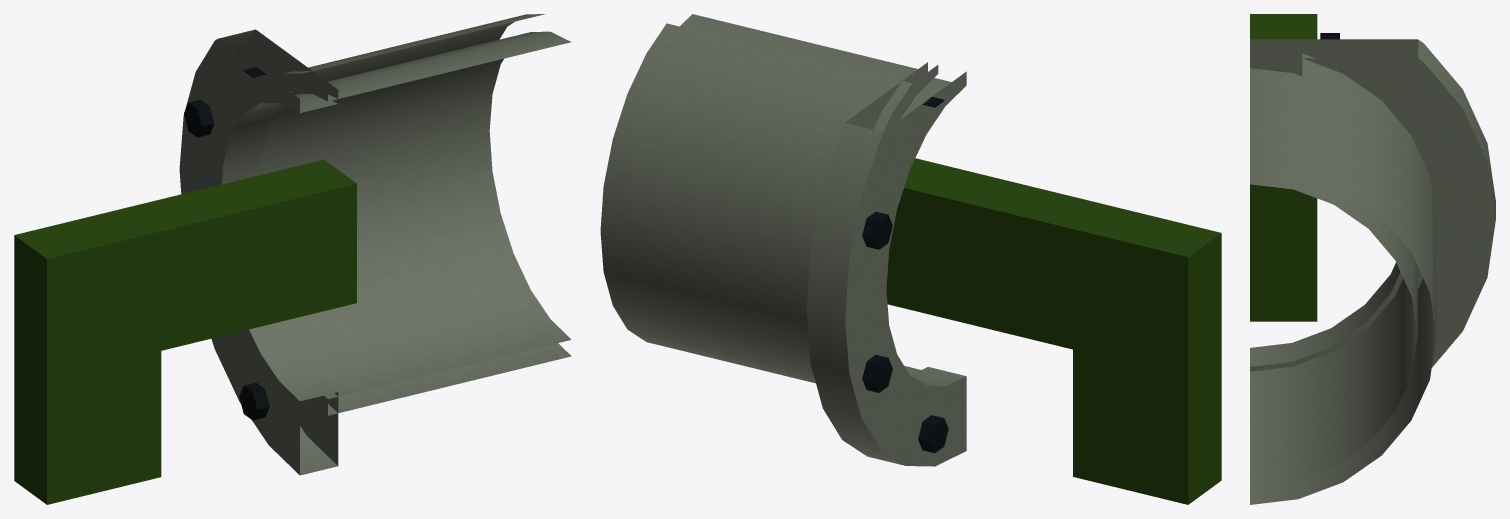
Rendered from cell_0.obj.
3 renders of one model, left to right at view 1: azimuth 30°, elevation 25°; view 2: azimuth 150°, elevation 25°; view 3: azimuth 270°, elevation 25°, orthographic. The views are drawn at different scales.
Visible parts, largest first — view 1: cell_0; view 2: cell_0; view 3: cell_0.
Boxes of the visible parts, <box> form: cell_0: <box>14,14,571,504</box>; cell_0: <box>600,14,1221,504</box>; cell_0: <box>1250,14,1495,504</box>.
Bounding box in the file's own units: 0.965 × 0.6617 × 0.3836.
